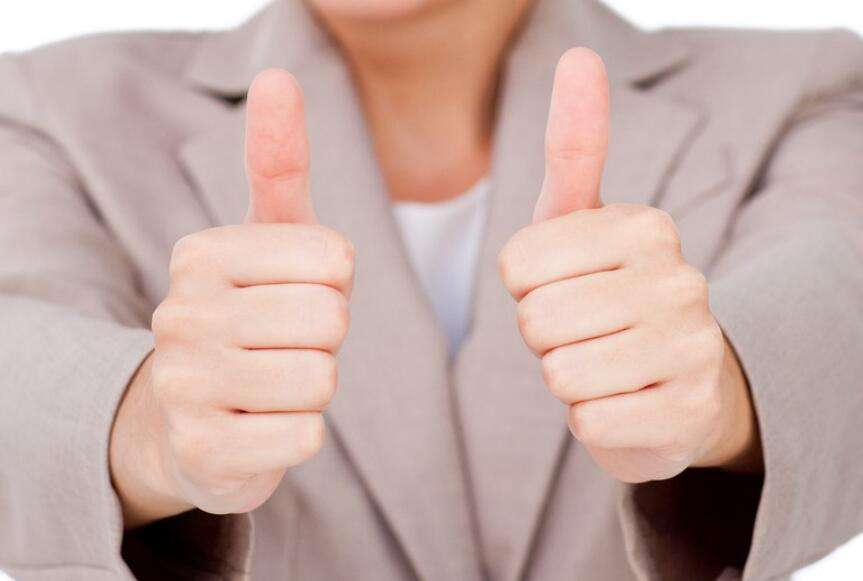no-phone: (493, 41, 729, 487), (146, 56, 367, 521)
